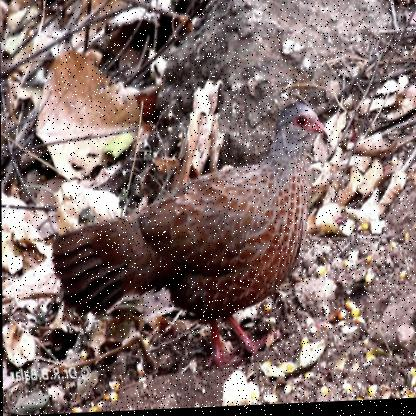Burung: (55, 104, 329, 371)
